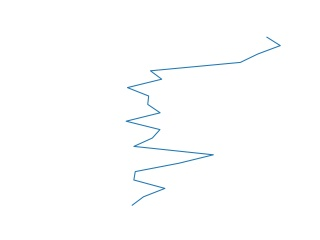crevasseRiverChannelBar: (119, 34, 285, 210)
